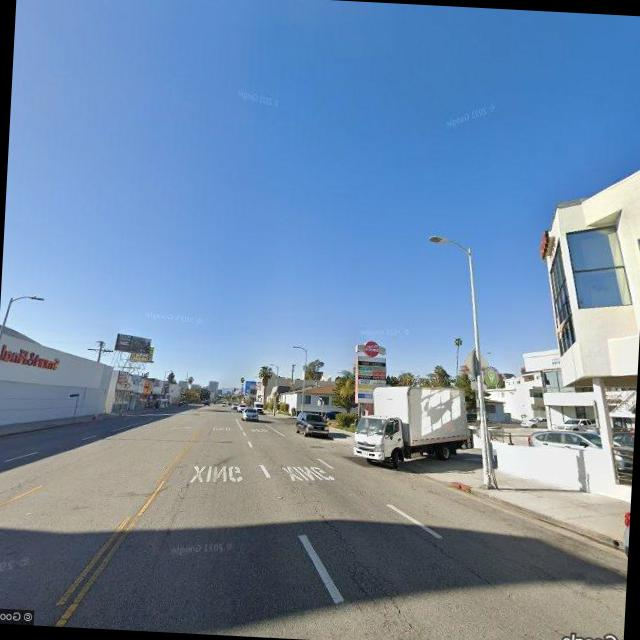crack: (296, 494, 451, 640)
